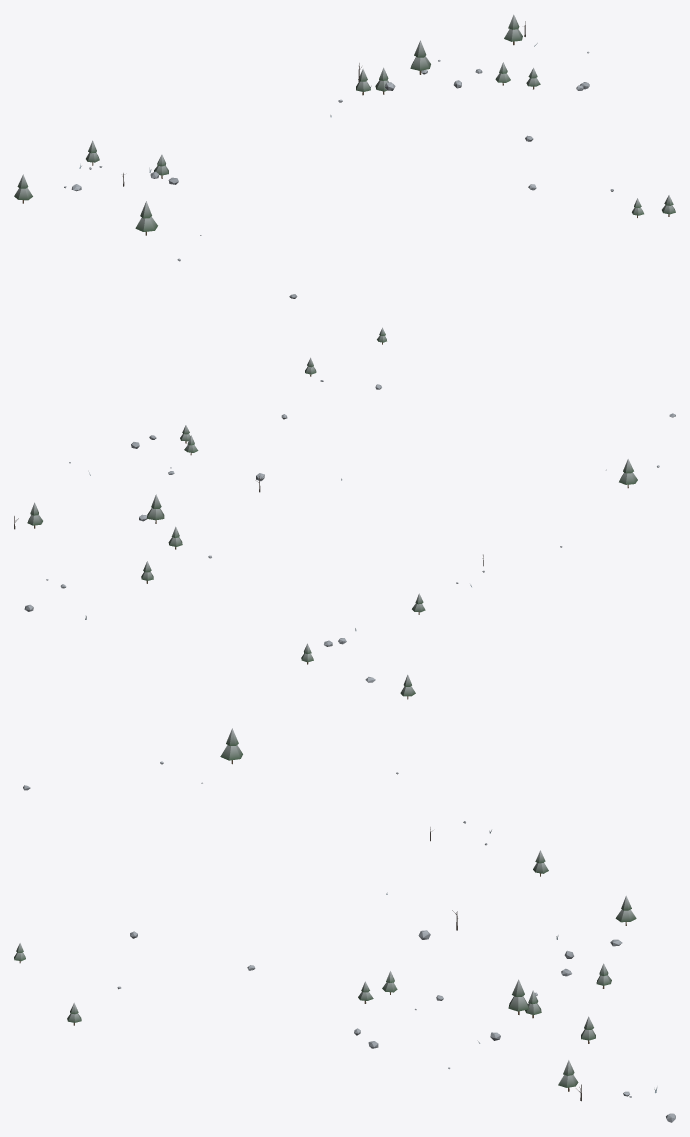
File: frost_land_scatter_c16_09_lod1.glb
3 renders of one model, top to bottom at view 1: azimuth 30°, elevation 25°; view 2: azimuth 150°, elevation 25°; view 3: azimuth 270°, elevation 25°, orthographic. The views are drawn at different scales.
Parts seen in each view (by area): view 1: frost_land_scatter_c16_09_lod1; view 2: frost_land_scatter_c16_09_lod1; view 3: frost_land_scatter_c16_09_lod1.
Boxes of the visible parts, x1=… form: frost_land_scatter_c16_09_lod1: x1=14, y1=14, x2=675, y2=298; frost_land_scatter_c16_09_lod1: x1=14, y1=327, x2=675, y2=699; frost_land_scatter_c16_09_lod1: x1=14, y1=728, x2=675, y2=1122.
Size of the model in its own units: 256 by 69.31 by 254.
